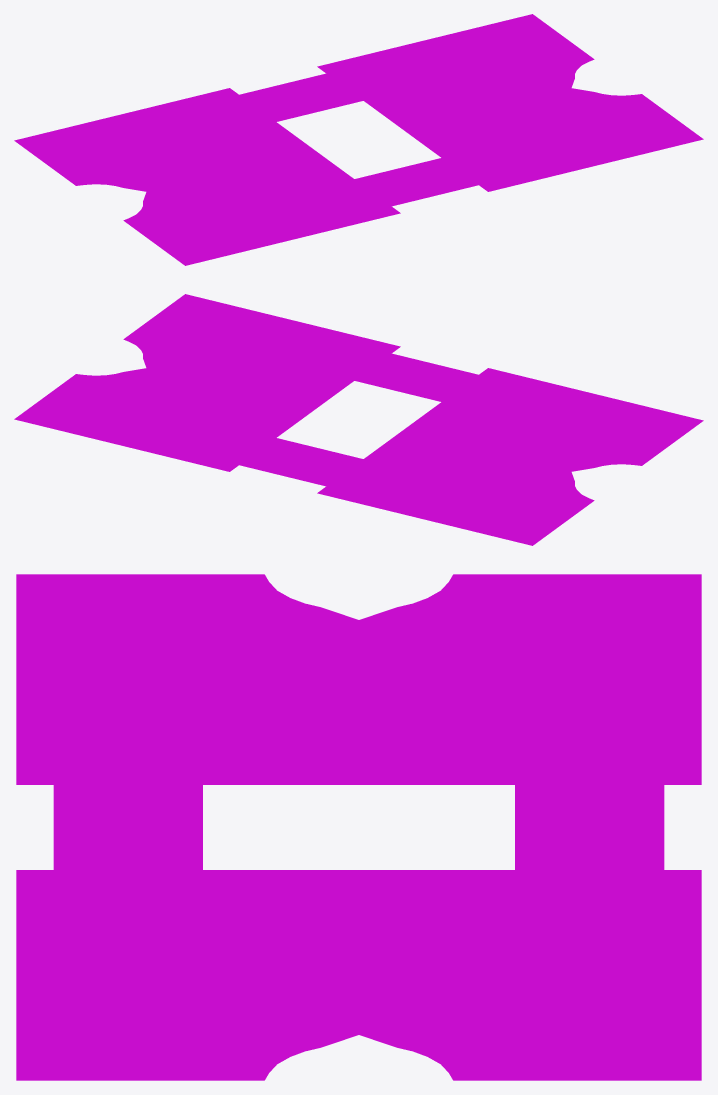
File: ramka.fbx
3 renders of one model, top to bottom at view 1: azimuth 30°, elevation 25°; view 2: azimuth 150°, elevation 25°; view 3: azimuth 270°, elevation 25°, orthographic. The views are drawn at different scales.
Parts seen in each view (by area): view 1: pPlane14; view 2: pPlane14; view 3: pPlane14.
Boxes of the visible parts, x1,y1,x2,y2 form: pPlane14: [14, 14, 703, 265]; pPlane14: [14, 294, 703, 545]; pPlane14: [16, 574, 701, 1080].
Bounding box in the file's own units: 0.2486 × 1.49e-10 × 0.1422.
